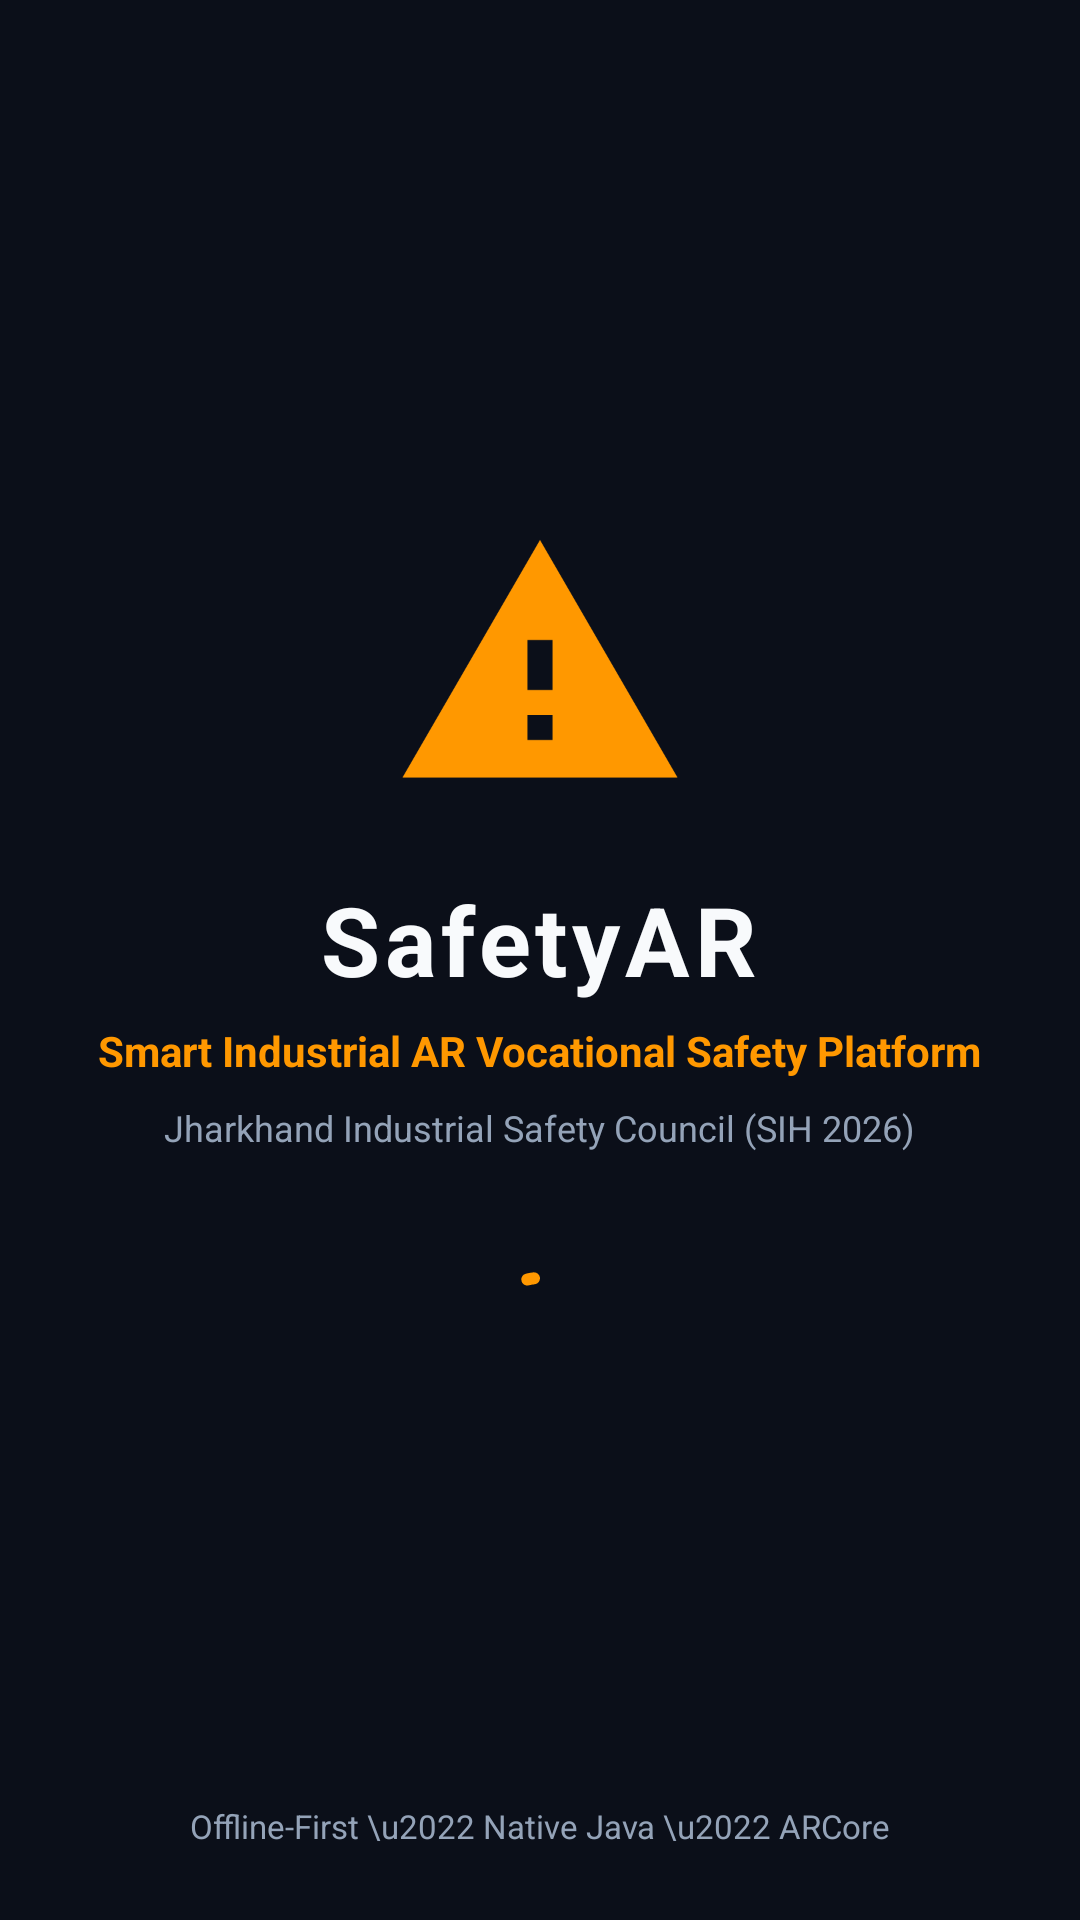

Where icons sit on this 1080 x 1920 app screen, as (x1, y1, x2, y2):
hazard warning: (402, 540, 678, 778)
